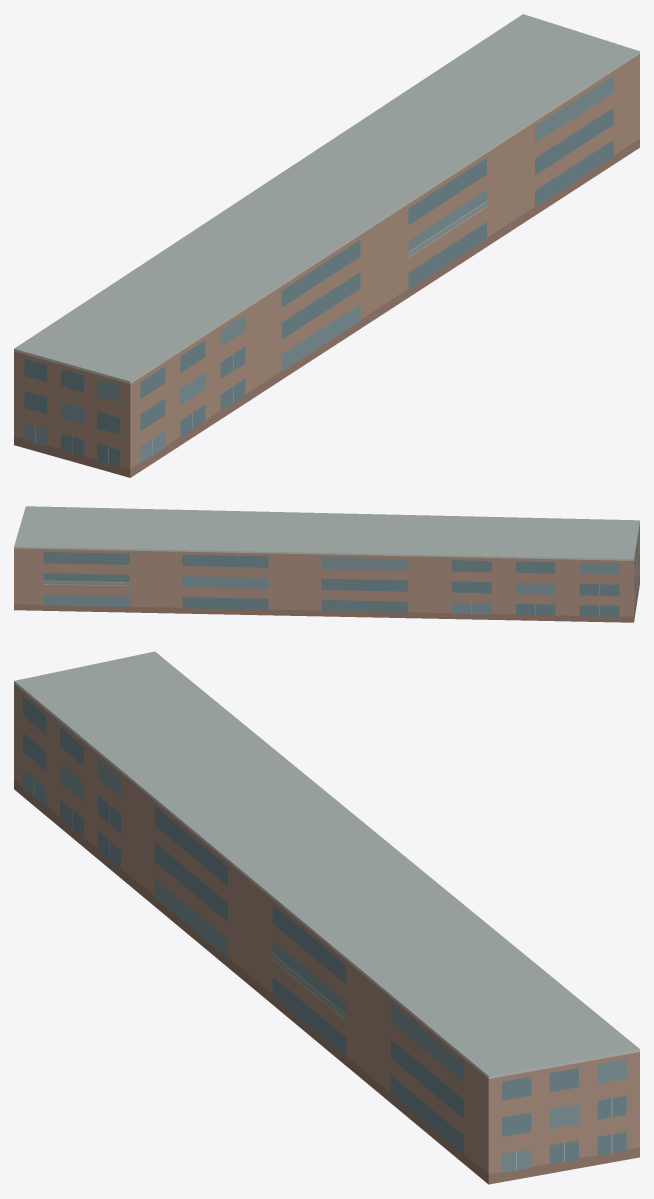
The model's file is survey-upis-32538812.glb.
3 views of the same model, one above another, from view 1: azimuth 30°, elevation 25°; view 2: azimuth 150°, elevation 25°; view 3: azimuth 270°, elevation 25° (orthographic). The views are drawn at different scales.
Visible parts, largest first — view 1: survey-upis-32538812.tmp; view 2: survey-upis-32538812.tmp; view 3: survey-upis-32538812.tmp.
Boxes of the visible parts, <box> form: survey-upis-32538812.tmp: <box>14,14,639,477</box>; survey-upis-32538812.tmp: <box>14,506,639,622</box>; survey-upis-32538812.tmp: <box>14,651,639,1184</box>.
Size of the model in its own units: 76.91 by 9.15 by 47.9.
